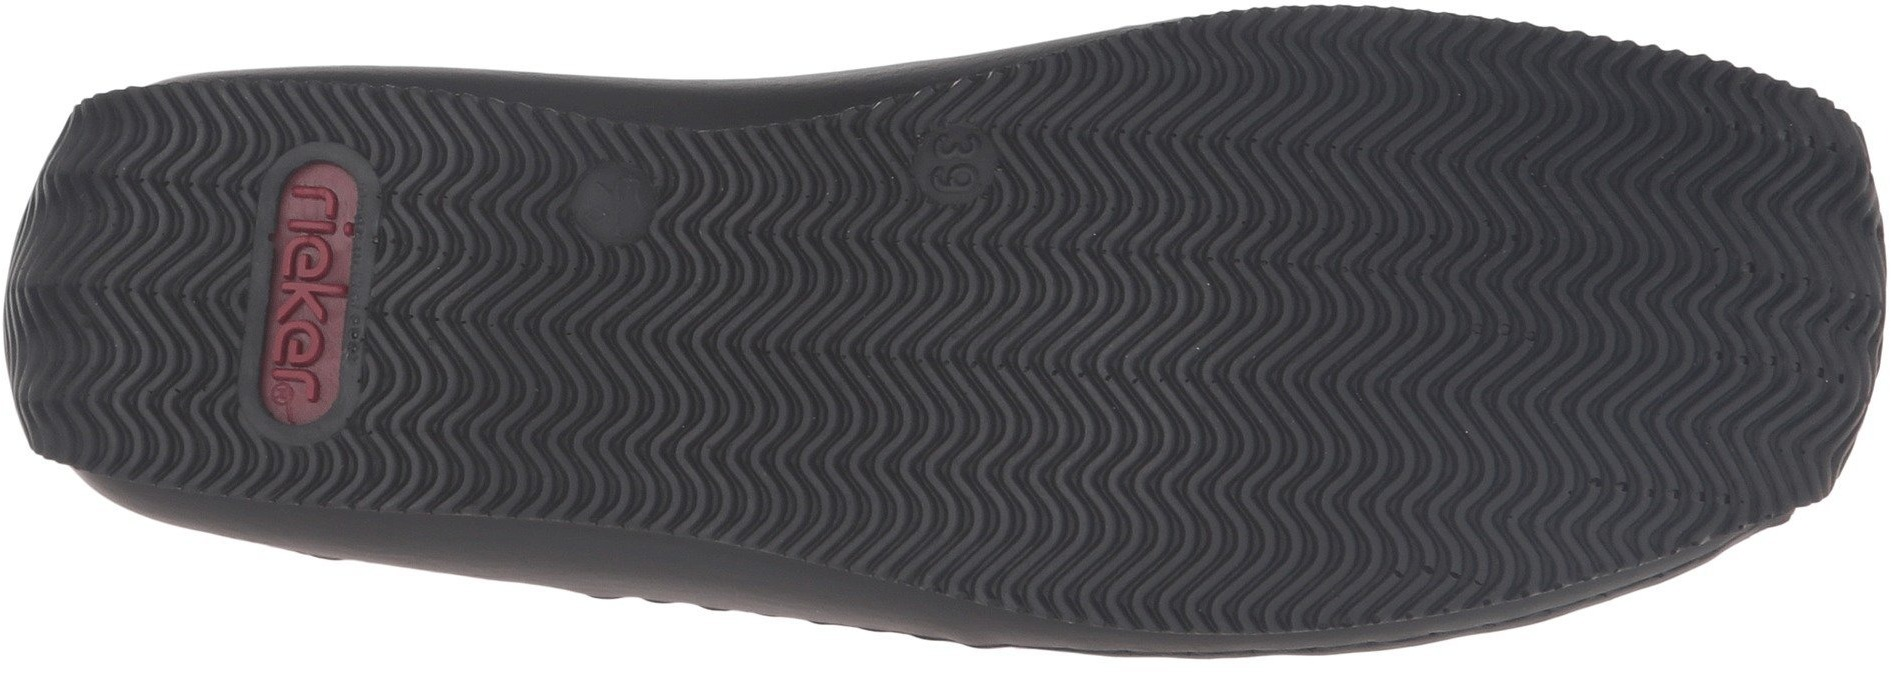chevron: (1482, 103, 1848, 472), (818, 261, 1144, 596), (1148, 40, 1482, 315), (1152, 324, 1462, 607), (568, 258, 803, 488), (28, 186, 253, 397), (368, 277, 569, 476), (386, 115, 560, 275)
text: (260, 280, 351, 379), (279, 175, 364, 261), (923, 121, 1003, 207)
